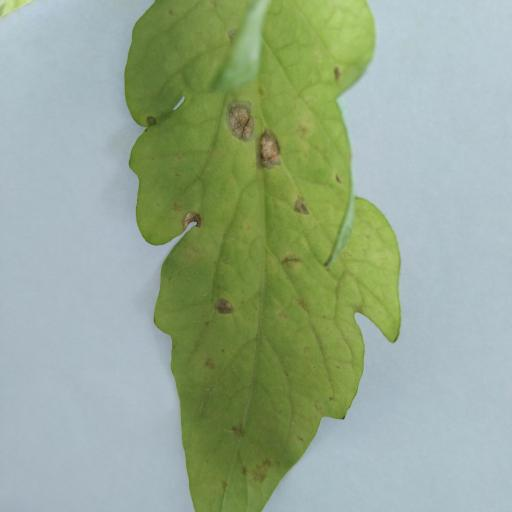Early Blight: (122, 0, 366, 512)
